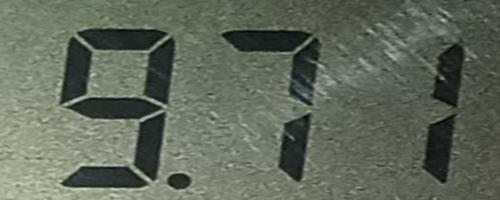.: (164, 171, 196, 192)
